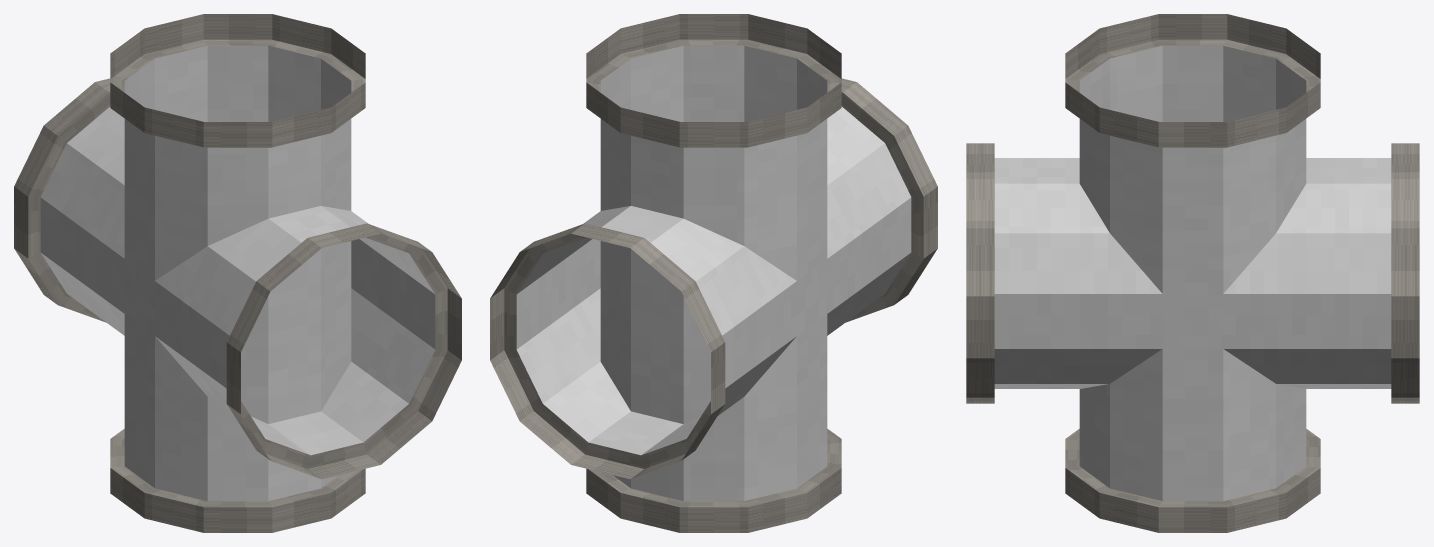
Rendered from connection_15.obj.
3 views of the same model, side by side, from view 1: azimuth 30°, elevation 25°; view 2: azimuth 150°, elevation 25°; view 3: azimuth 270°, elevation 25° (orthographic).
Size of the model in its own units: 0.5625 by 1 by 1.
